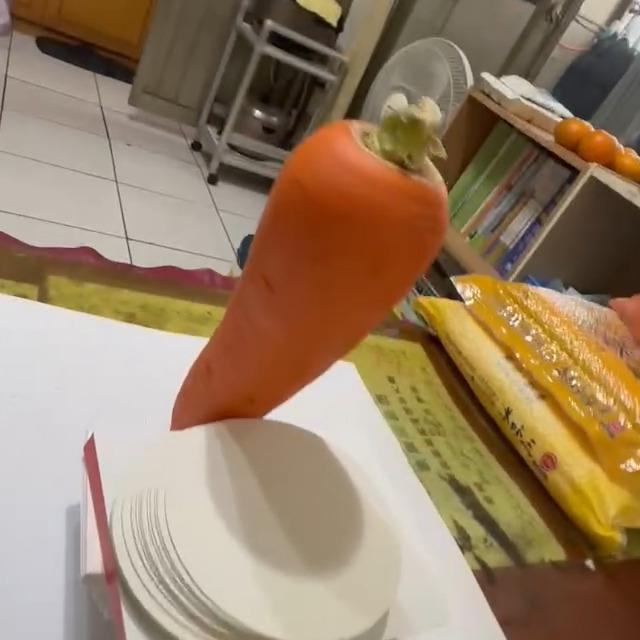carrot: (170, 99, 456, 434)
